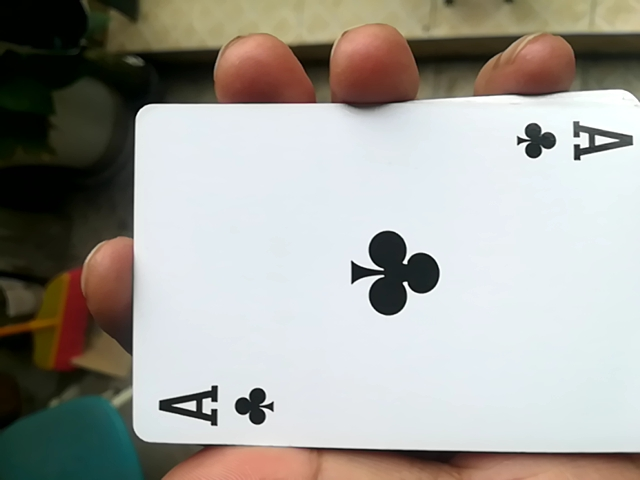mh a: (121, 108, 633, 470)
